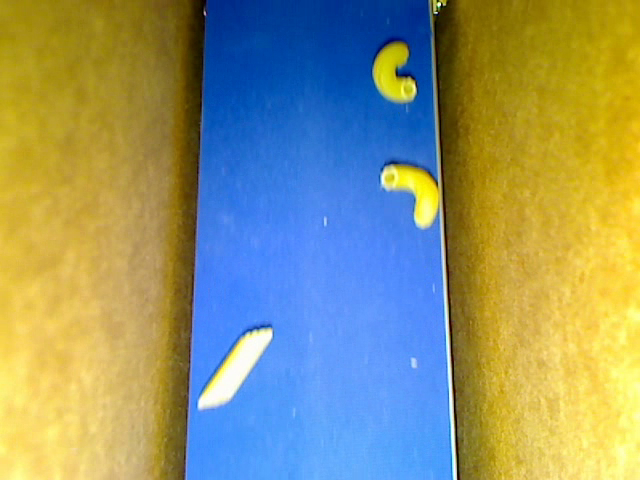elbow: (379, 162, 440, 230), (372, 42, 416, 103)
penne: (196, 326, 273, 409)
